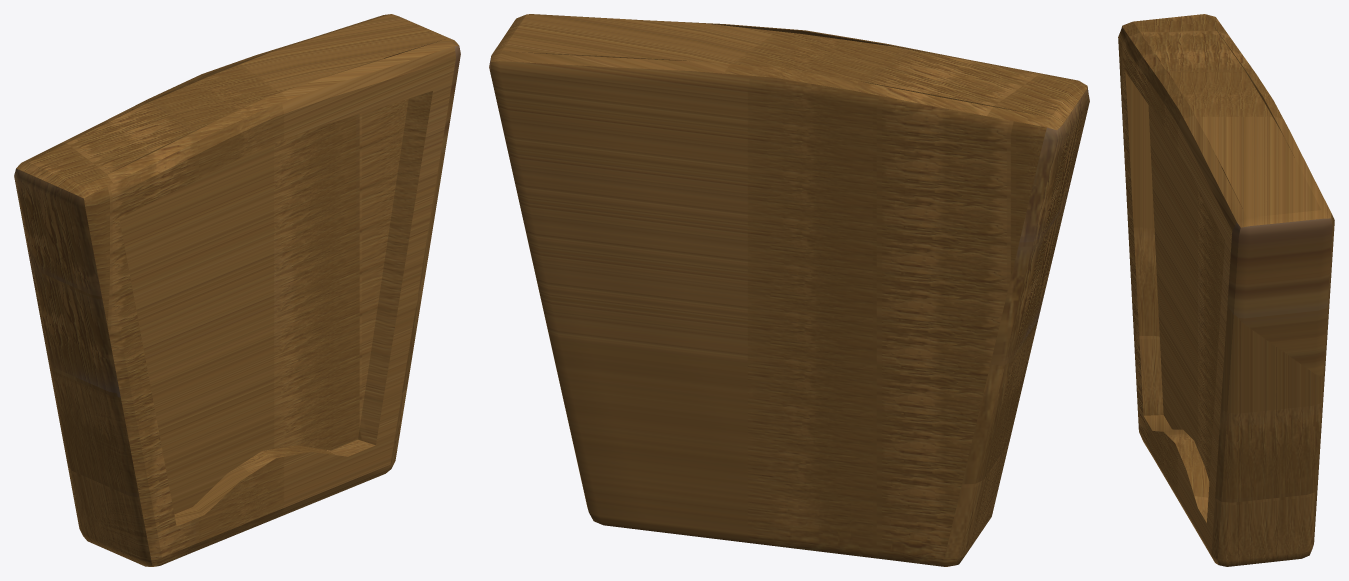
File: Meter.fbx
3 views of the same model, side by side, from view 1: azimuth 30°, elevation 25°; view 2: azimuth 150°, elevation 25°; view 3: azimuth 270°, elevation 25° (orthographic). The views are drawn at different scales.
Visible parts, largest first — view 1: Guage1; view 2: Guage1; view 3: Guage1.
Part boxes in pixels (box(x1,y1,x2,y2)): Guage1: box(14, 14, 460, 566); Guage1: box(489, 14, 1089, 566); Guage1: box(1118, 14, 1334, 566).
Bounding box in the file's own units: 0.7347 × 0.6406 × 0.3147.
